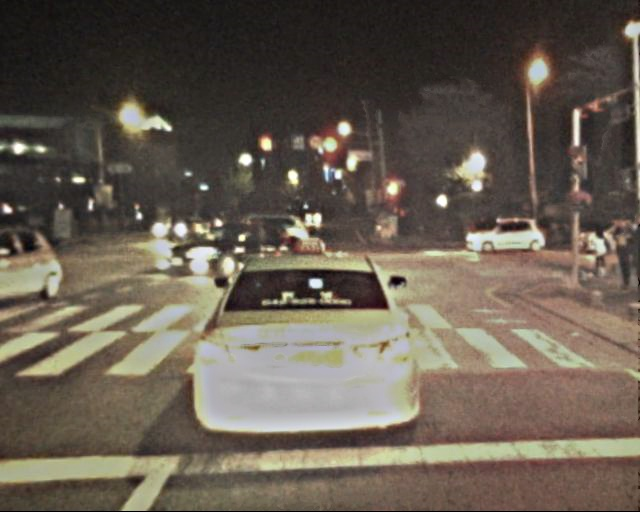person: (604, 215, 635, 290), (206, 209, 238, 241), (590, 226, 610, 275), (470, 218, 490, 242)
